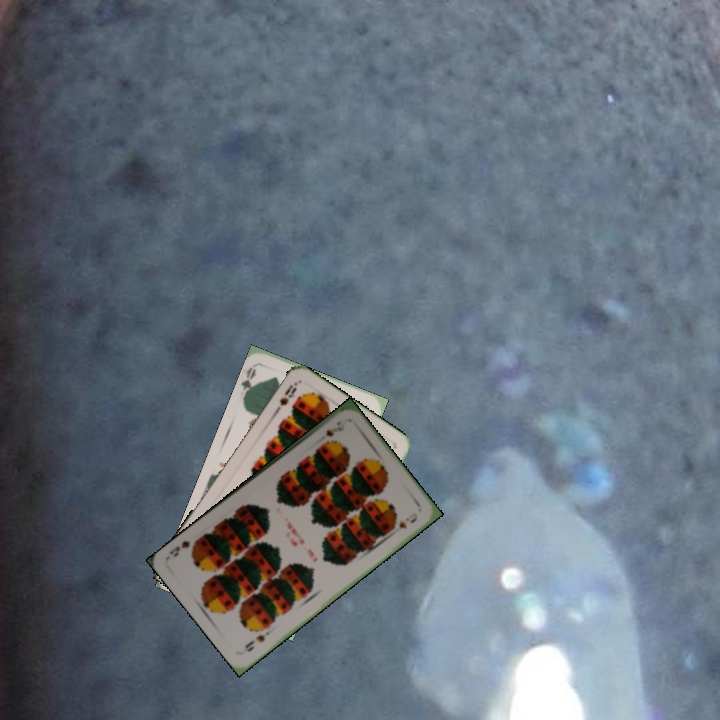GO: (238, 362, 261, 401)
S8: (272, 378, 300, 414)
S9: (240, 630, 268, 654), (321, 417, 347, 439)
